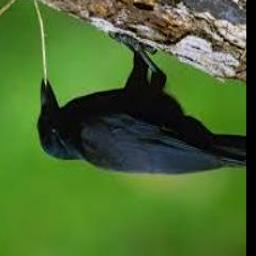Crow: (36, 31, 246, 177)
